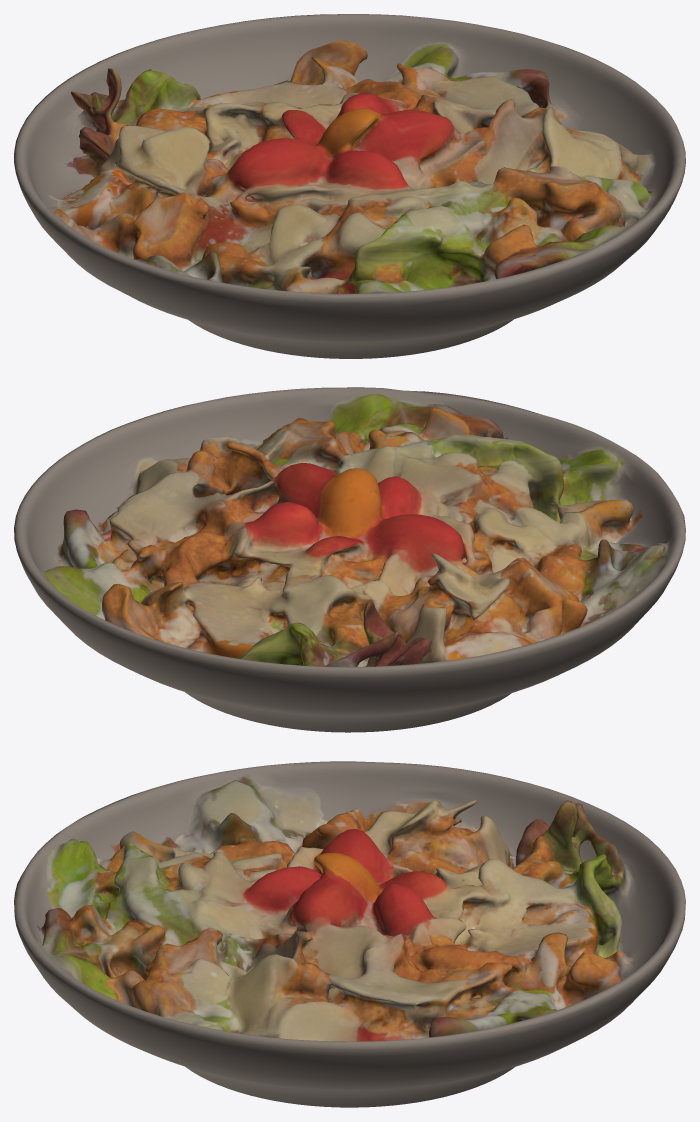
File: 10_cesar.glb
3 renders of one model, top to bottom at view 1: azimuth 30°, elevation 25°; view 2: azimuth 150°, elevation 25°; view 3: azimuth 270°, elevation 25°, orthographic.
Visible parts, largest first — view 1: Final; view 2: Final; view 3: Final.
Boxes of the visible parts, left/top/right/bottom form: Final: left=14, top=14, right=685, bottom=358; Final: left=14, top=387, right=685, bottom=732; Final: left=14, top=761, right=685, bottom=1107.
Size of the model in its own units: 0.1981 by 0.0566 by 0.198.
Materials: 1 (1 with a texture image).
